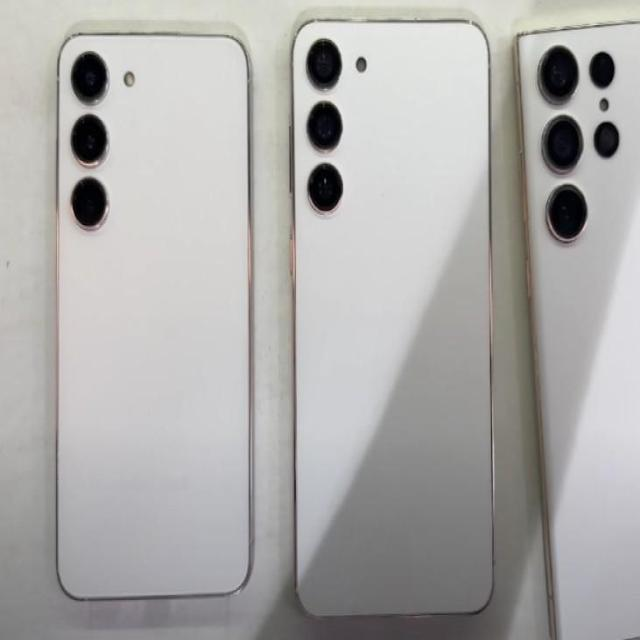cellphone: (296, 17, 500, 624), (55, 30, 255, 599), (510, 0, 640, 640)
